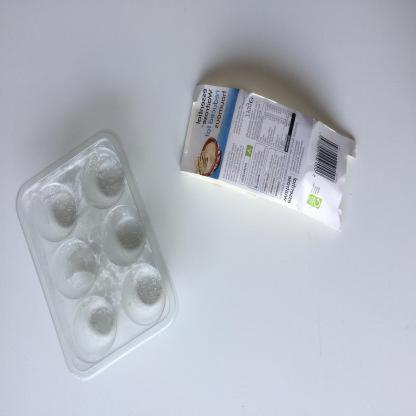Carton: (180, 84, 357, 231)
Plastic container: (15, 129, 179, 381)
